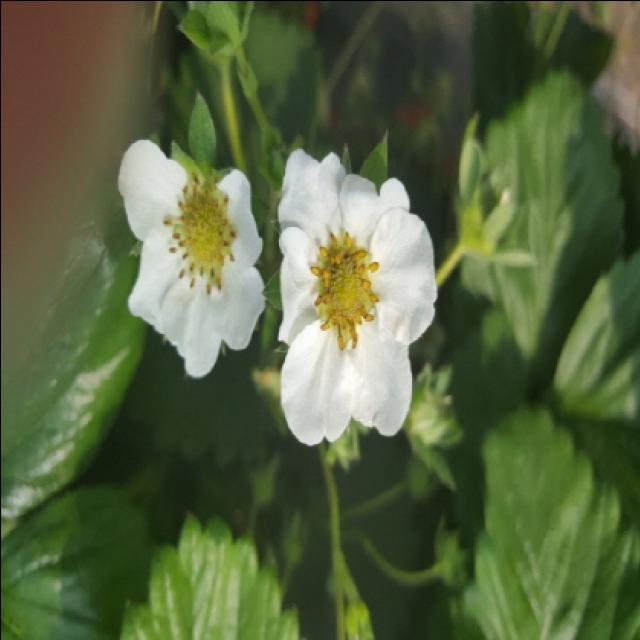Blossom Blight: (159, 171, 240, 298), (303, 229, 383, 354)
